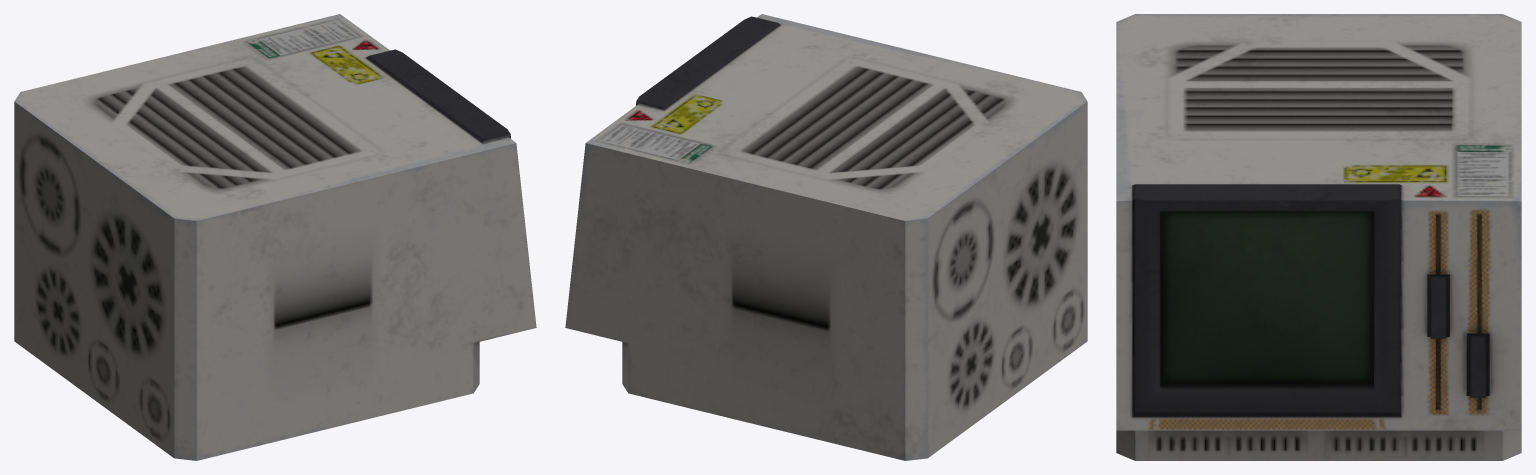
Rendered from Console 2.fbx.
The picture shows the model from 3 angles, left to right: view 1: azimuth 30°, elevation 25°; view 2: azimuth 150°, elevation 25°; view 3: azimuth 270°, elevation 25°; orthographic projection. The views are drawn at different scales.
Parts seen in each view (by area): view 1: Console_2; view 2: Console_2; view 3: Console_2.
Boxes of the visible parts, bbox=[...] form: Console_2: bbox=[14, 14, 536, 460]; Console_2: bbox=[565, 14, 1087, 460]; Console_2: bbox=[1116, 14, 1521, 460].
Bounding box in the file's own units: 35.77 × 23.07 × 30.36.
1 material, 1 textured.
